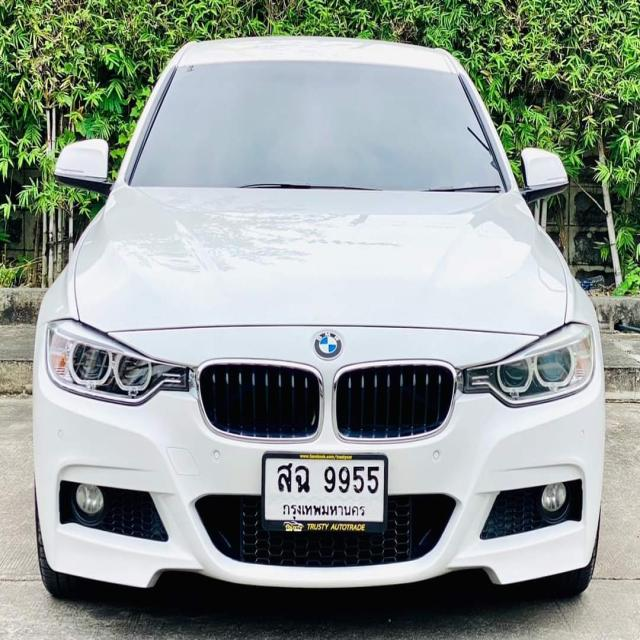license_plate: (260, 446, 388, 536)
